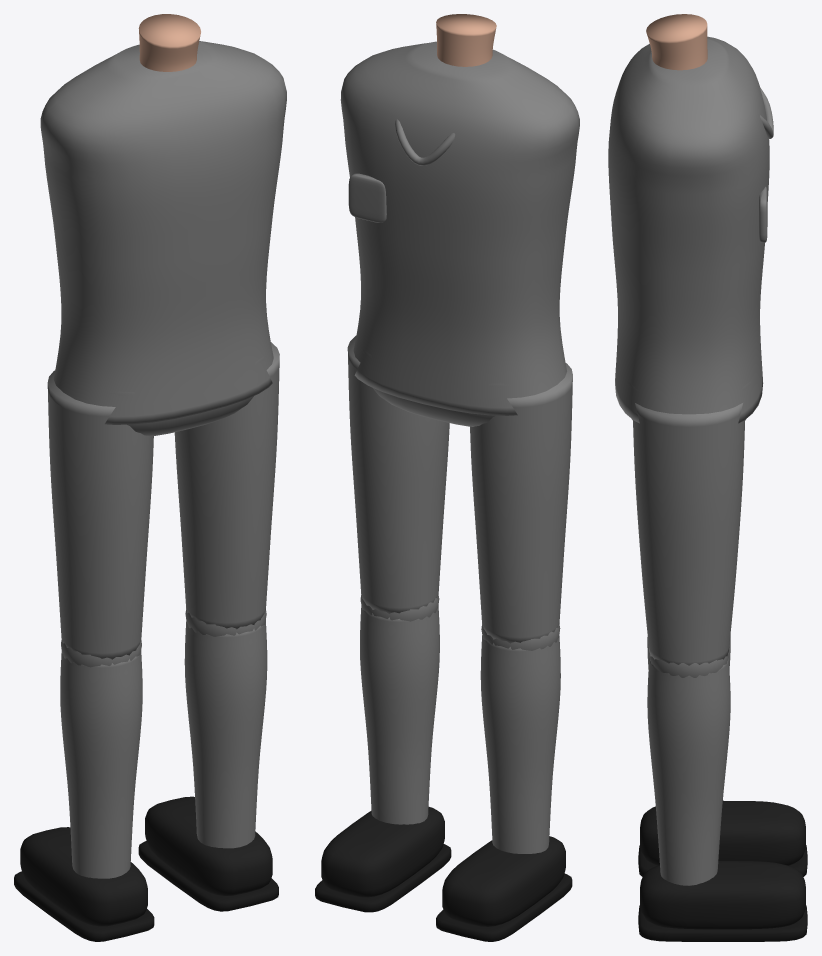
File: body.glb
3 renders of one model, left to right at view 1: azimuth 30°, elevation 25°; view 2: azimuth 150°, elevation 25°; view 3: azimuth 270°, elevation 25°, orthographic. The views are drawn at different scales.
Visible parts, largest first — view 1: Torso, LegL, LegR, ShinL, ShinR, ShoeL, ShoeR, Neck, SoleL, SoleR, Pelvis; view 2: Torso, LegL, LegR, ShinR, ShinL, ShoeR, ShoeL, Neck, SoleR, SoleL, Pocket, Pelvis (+1 smaller); view 3: Torso, LegR, ShinR, ShoeR, ShoeL, Neck, SoleR, SoleL, Pocket.
Part boxes in pixels (bbox=[...]): Torso: bbox=[40, 41, 286, 424]; LegL: bbox=[47, 370, 153, 667]; LegR: bbox=[174, 342, 279, 636]; ShinL: bbox=[60, 650, 142, 878]; ShinR: bbox=[184, 620, 267, 848]; ShoeL: bbox=[20, 827, 147, 926]; ShoeR: bbox=[145, 796, 272, 895]; Neck: bbox=[138, 14, 200, 71]; SoleL: bbox=[14, 871, 154, 941]; SoleR: bbox=[138, 841, 278, 911]; Pelvis: bbox=[109, 355, 266, 436]; Torso: bbox=[340, 41, 579, 415]; LegL: bbox=[470, 363, 572, 650]; LegR: bbox=[347, 335, 449, 621]; ShinR: bbox=[360, 606, 439, 824]; ShinL: bbox=[480, 635, 560, 853]; ShoeR: bbox=[321, 807, 444, 897]; ShoeL: bbox=[442, 836, 565, 926]; Neck: bbox=[436, 14, 496, 66]; SoleR: bbox=[315, 844, 451, 912]; SoleL: bbox=[436, 873, 572, 941]; Pocket: bbox=[348, 173, 386, 222]; Pelvis: bbox=[360, 348, 511, 426]; Torso: bbox=[608, 36, 769, 423]; LegR: bbox=[633, 403, 744, 677]; ShinR: bbox=[647, 658, 730, 885]; ShoeR: bbox=[640, 861, 805, 929]; ShoeL: bbox=[640, 800, 805, 865]; Neck: bbox=[646, 14, 707, 70]; SoleR: bbox=[638, 905, 807, 941]; SoleL: bbox=[638, 845, 807, 876]; Pocket: bbox=[759, 186, 767, 242].
Size of the model in its own units: 0.4193 by 1.56 by 0.3227.
